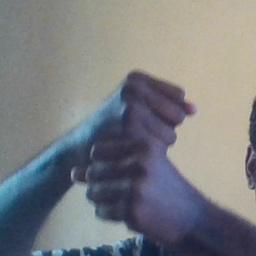G: (71, 68, 198, 219)
